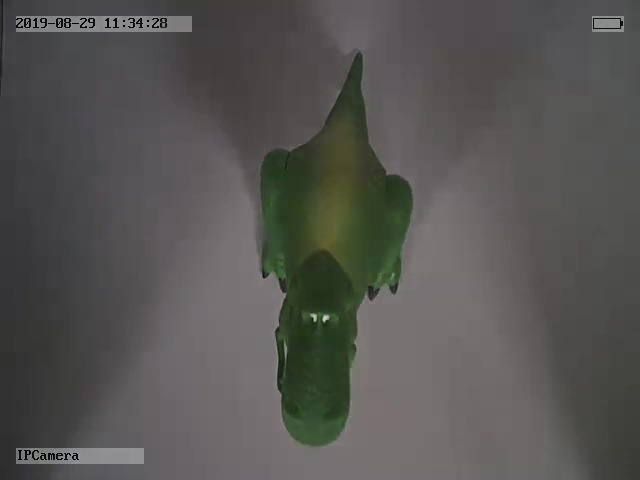rex: (254, 49, 412, 447)
